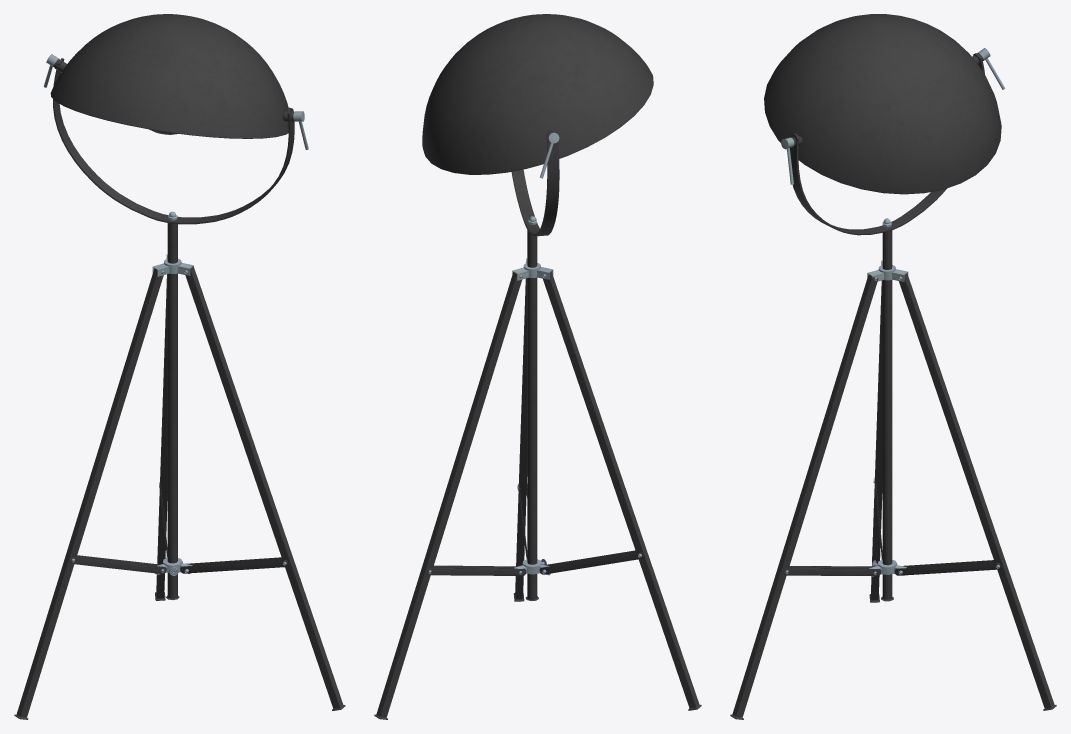
The model's file is lamp_tripod.glb.
The picture shows the model from 3 angles, left to right: view 1: azimuth 30°, elevation 25°; view 2: azimuth 150°, elevation 25°; view 3: azimuth 270°, elevation 25°; orthographic projection.
Visible parts, largest first — view 1: g (×2); view 2: g (×2); view 3: g (×2).
Boxes of the visible parts, bbox=[...] form: g (×2): bbox=[14, 14, 345, 719]; g (×2): bbox=[374, 14, 701, 719]; g (×2): bbox=[730, 14, 1056, 719].
Size of what is drawn, in the model's own units: 0.8338 by 2 by 0.9159.
5 materials, 5 textured.
